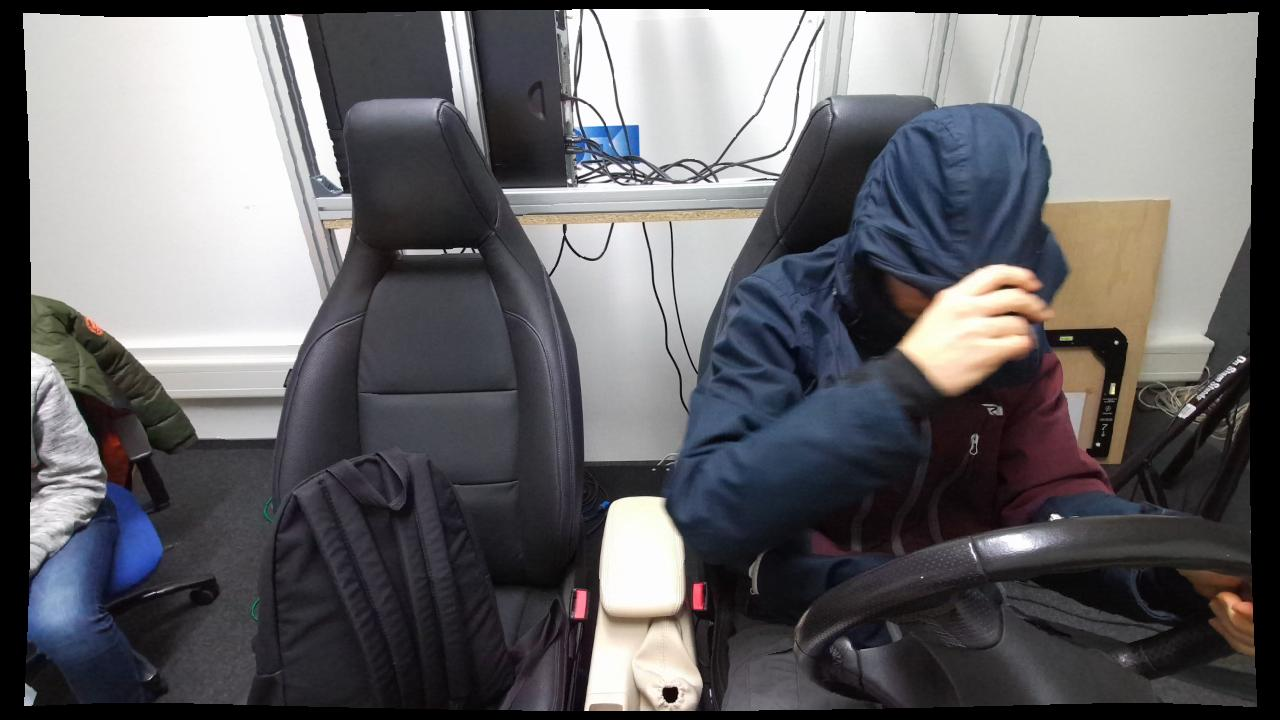Distracted: (664, 97, 1082, 707)
